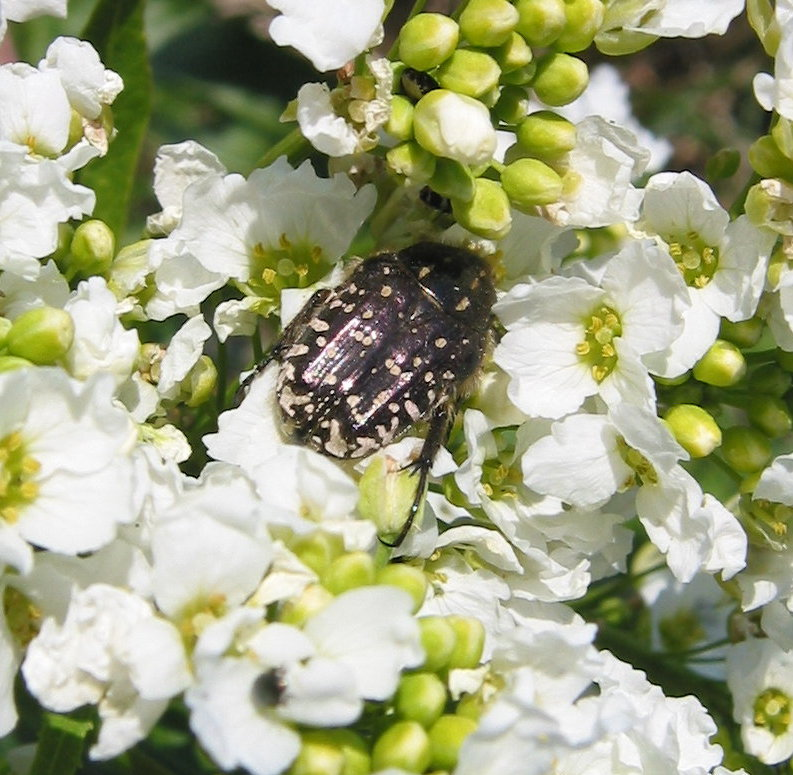Oxythyrea_funesta: (234, 236, 516, 567)
